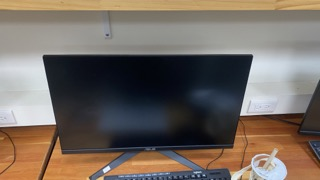screen: (42, 53, 257, 155)
